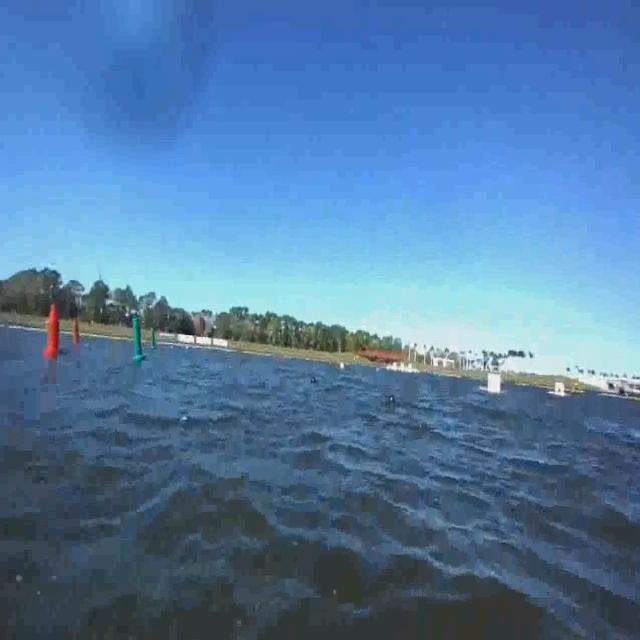black-buoy: (390, 396, 396, 406), (310, 375, 316, 383)
green-column-buoy: (131, 316, 145, 364), (151, 326, 157, 348)
red-column-buoy: (46, 302, 63, 357), (72, 316, 82, 344)
